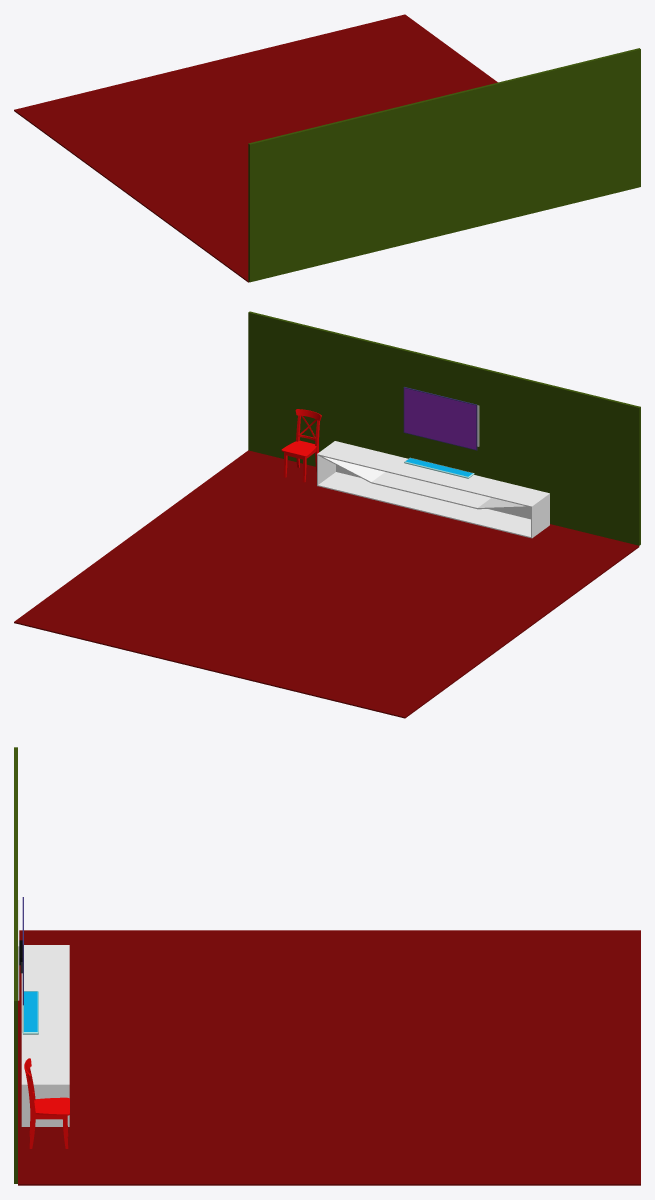
File: room 1.obj
The picture shows the model from 3 angles, top to bottom: view 1: azimuth 30°, elevation 25°; view 2: azimuth 150°, elevation 25°; view 3: azimuth 270°, elevation 25°; orthographic projection. The views are drawn at different scales.
Visible parts, largest first — view 1: Mesh6 wall1 Model, Mesh7 floor1 Model; view 2: Mesh7 floor1 Model, Mesh6 wall1 Model, Mesh4 table1 Model, Mesh1 tv1 Model, Mesh3 Ikea_Dining_Chair1 Component1 Model; view 3: Mesh7 floor1 Model, Mesh4 table1 Model, Mesh6 wall1 Model, Mesh3 Ikea_Dining_Chair1 Component1 Model, Mesh2 speaker1 Model.
Boxes of the visible parts, bbox=[...] form: Mesh6 wall1 Model: bbox=[248, 48, 640, 282]; Mesh7 floor1 Model: bbox=[14, 14, 497, 282]; Mesh7 floor1 Model: bbox=[14, 450, 639, 718]; Mesh6 wall1 Model: bbox=[248, 311, 640, 545]; Mesh4 table1 Model: bbox=[317, 441, 549, 538]; Mesh1 tv1 Model: bbox=[403, 387, 477, 450]; Mesh3 Ikea_Dining_Chair1 Component1 Model: bbox=[281, 409, 321, 482]; Mesh7 floor1 Model: bbox=[18, 930, 640, 1185]; Mesh4 table1 Model: bbox=[21, 945, 69, 1126]; Mesh6 wall1 Model: bbox=[14, 747, 17, 1183]; Mesh3 Ikea_Dining_Chair1 Component1 Model: bbox=[24, 1058, 69, 1148]; Mesh2 speaker1 Model: bbox=[22, 991, 38, 1034].
Bounding box in the file's own units: 380 × 129 × 396.
